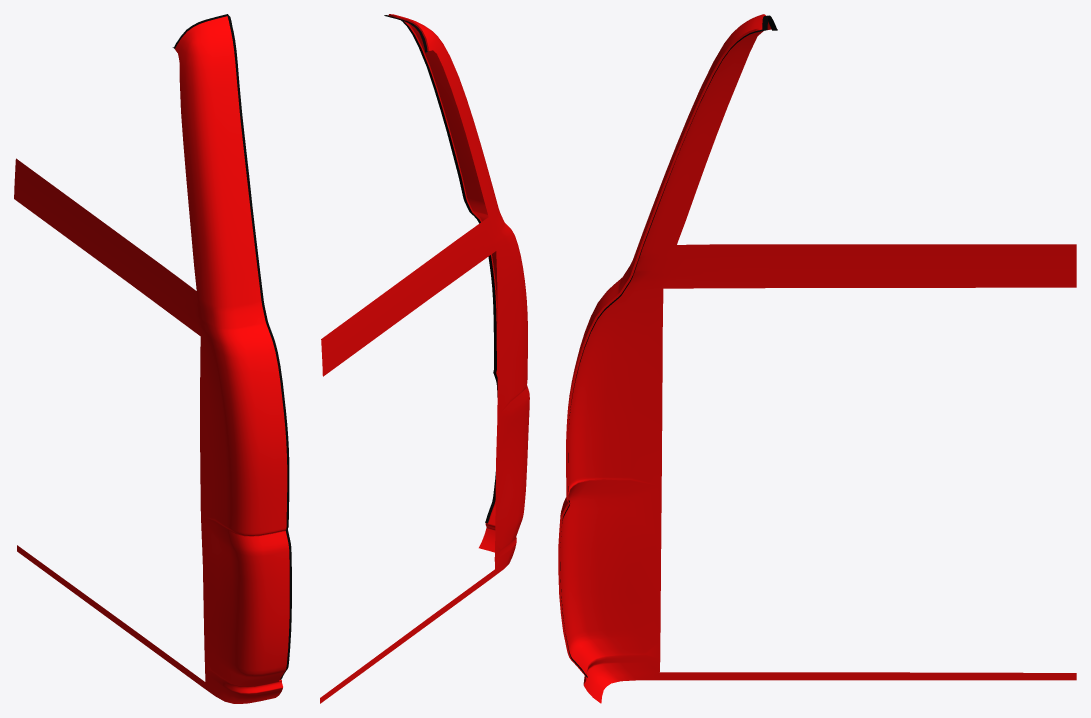
3 renders of one model, left to right at view 1: azimuth 30°, elevation 25°; view 2: azimuth 150°, elevation 25°; view 3: azimuth 270°, elevation 25°, orthographic. The views are drawn at different scales.
Parts seen in each view (by area): view 1: U805_4A_181X_R_1_DaS_U805_4A_181X_R, U805_4A_181X_R_U805_4A_181X_R_2_D; view 2: U805_4A_181X_R_1_DaS_U805_4A_181X_R, U805_4A_181X_R_U805_4A_181X_R_2_D, U805_4A_181X_R_1_DaS_U805_4A_181X_R_E; view 3: U805_4A_181X_R_1_DaS_U805_4A_181X_R, U805_4A_181X_R_1_DaS_U805_4A_181X_R_E, U805_4A_181X_R_U805_4A_181X_R_2_D.
Boxes of the visible parts, box(x1,y1,x2,y2) form: U805_4A_181X_R_1_DaS_U805_4A_181X_R: box(14, 16, 289, 703); U805_4A_181X_R_U805_4A_181X_R_2_D: box(172, 14, 291, 679); U805_4A_181X_R_1_DaS_U805_4A_181X_R: box(320, 14, 529, 703); U805_4A_181X_R_U805_4A_181X_R_2_D: box(384, 15, 497, 523); U805_4A_181X_R_1_DaS_U805_4A_181X_R_E: box(388, 14, 525, 523); U805_4A_181X_R_1_DaS_U805_4A_181X_R: box(560, 14, 1076, 703); U805_4A_181X_R_1_DaS_U805_4A_181X_R_E: box(558, 14, 765, 678); U805_4A_181X_R_U805_4A_181X_R_2_D: box(560, 15, 777, 677).
Bounding box in the file's own units: 16.48 × 130 × 88.6.
